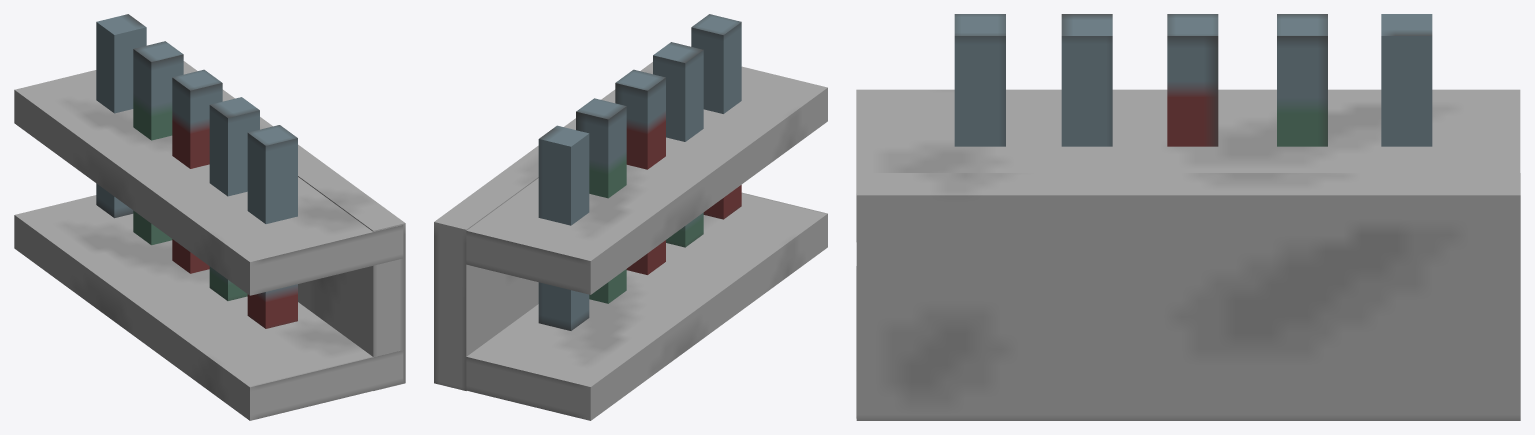
Rendered from obj_test_tubes.fbx.
3 renders of one model, left to right at view 1: azimuth 30°, elevation 25°; view 2: azimuth 150°, elevation 25°; view 3: azimuth 270°, elevation 25°, orthographic. The views are drawn at different scales.
Visible parts, largest first — view 1: obj_test_tubes; view 2: obj_test_tubes; view 3: obj_test_tubes.
Part boxes in pixels (<box>): obj_test_tubes: <box>14,14,405,420</box>; obj_test_tubes: <box>434,14,827,420</box>; obj_test_tubes: <box>856,14,1520,420</box>.
Bounding box in the file's own units: 9.48 × 13.84 × 24.88.
